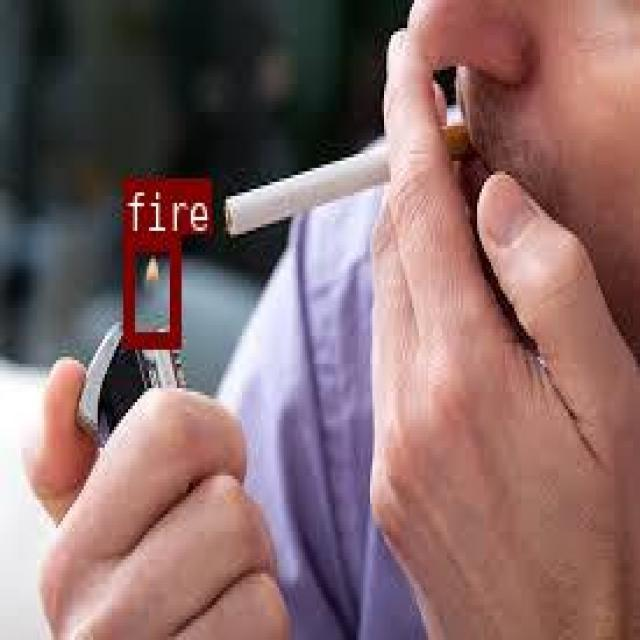fire: (123, 234, 178, 344)
